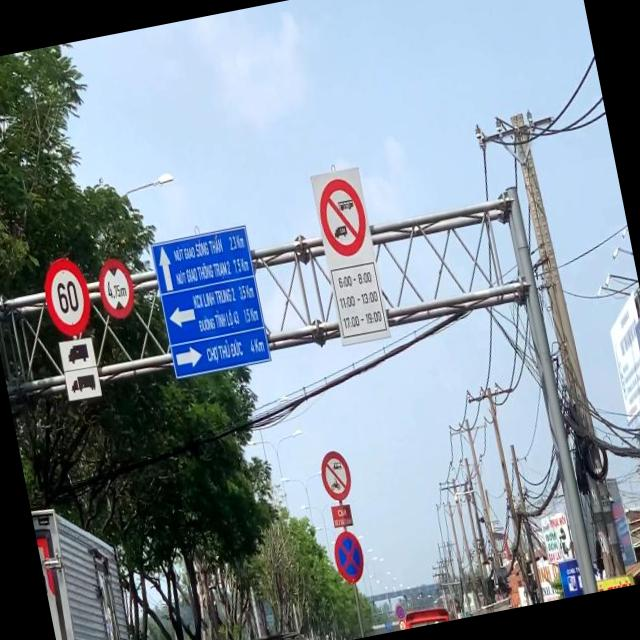P-117: (92, 253, 140, 323)
P-130: (330, 527, 370, 586)
